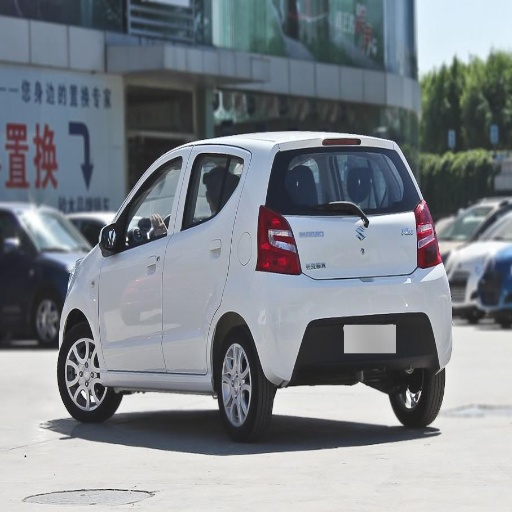back_bumper: (242, 264, 449, 386)
back_glass: (274, 150, 409, 211)
back_left_door: (163, 150, 232, 372)
trunk: (290, 205, 418, 279)
